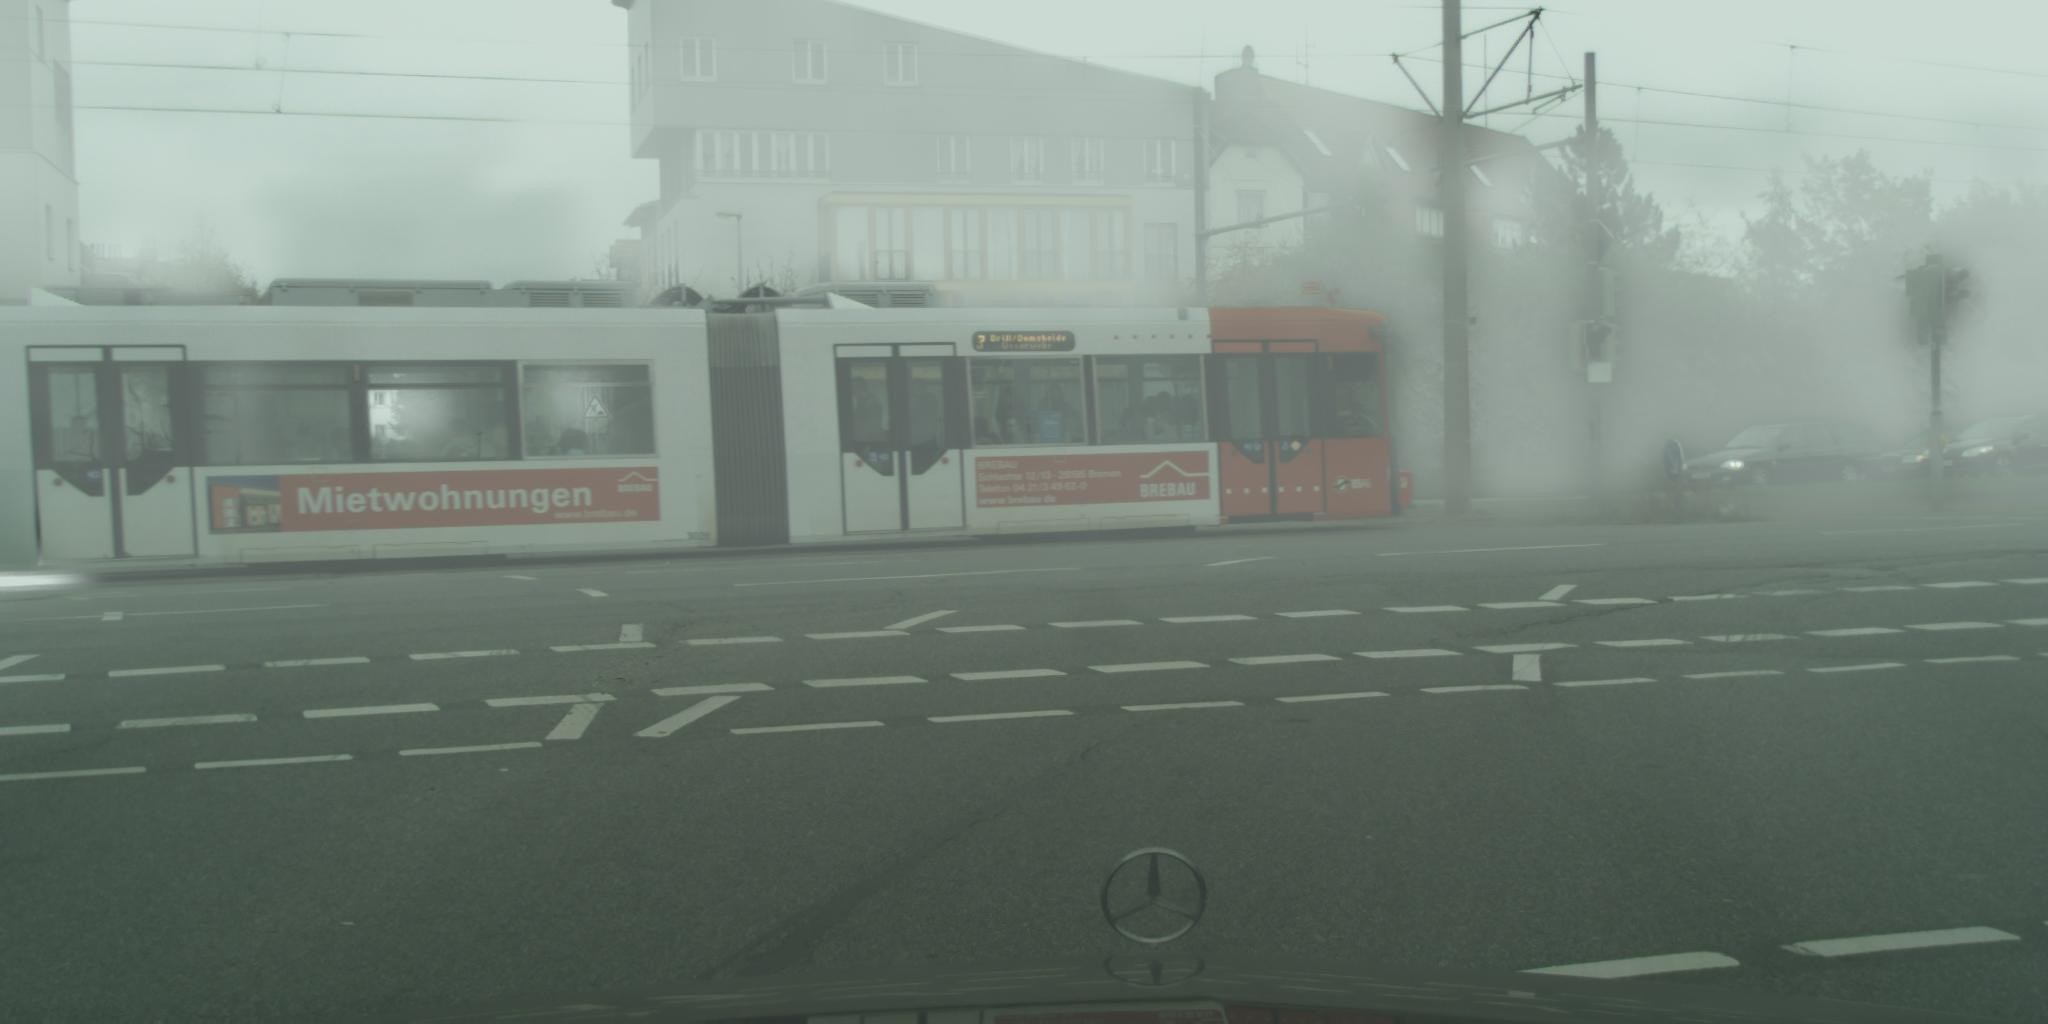car: (1677, 422, 1877, 495), (1863, 428, 1992, 488), (1940, 413, 2048, 481), (1856, 427, 1883, 461)
train: (1, 277, 1413, 586)
